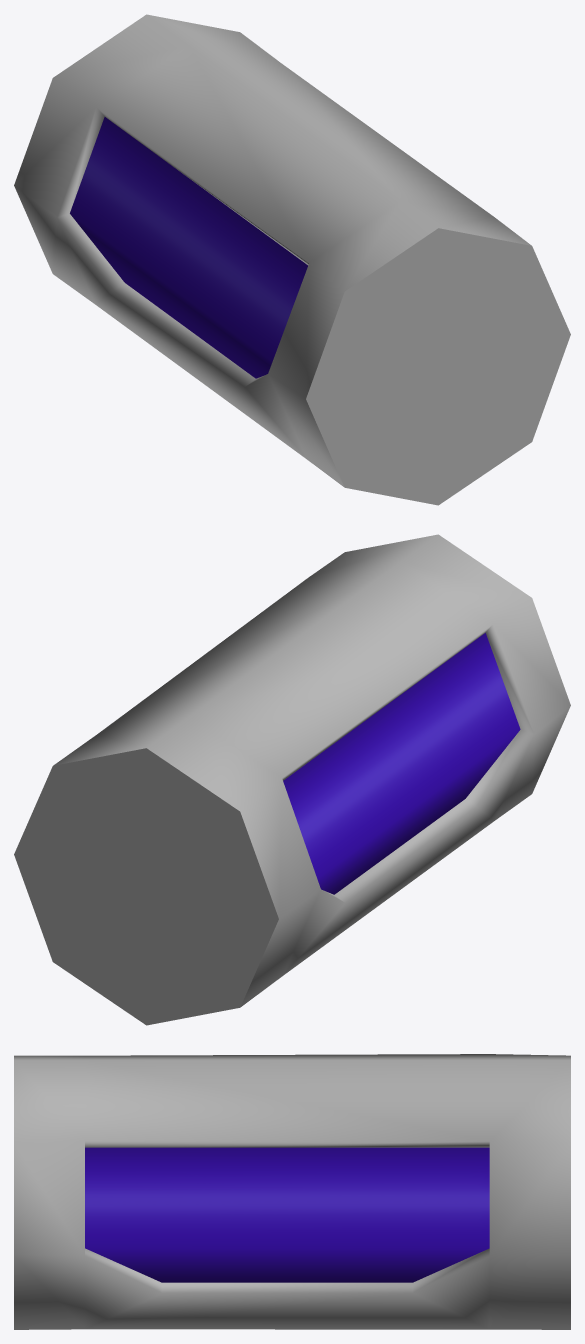
The model's file is bullet.FBX.
3 renders of one model, top to bottom at view 1: azimuth 30°, elevation 25°; view 2: azimuth 150°, elevation 25°; view 3: azimuth 270°, elevation 25°, orthographic. The views are drawn at different scales.
Parts seen in each view (by area): view 1: Cylinder005; view 2: Cylinder005; view 3: Cylinder005.
Boxes of the visible parts, x1,y1,x2,y2 form: Cylinder005: (14,14,570,505); Cylinder005: (14,534,570,1025); Cylinder005: (14,1054,570,1329).
Size of the model in its own units: 12.8 by 12.74 by 24.31.
1 material, 1 textured.
